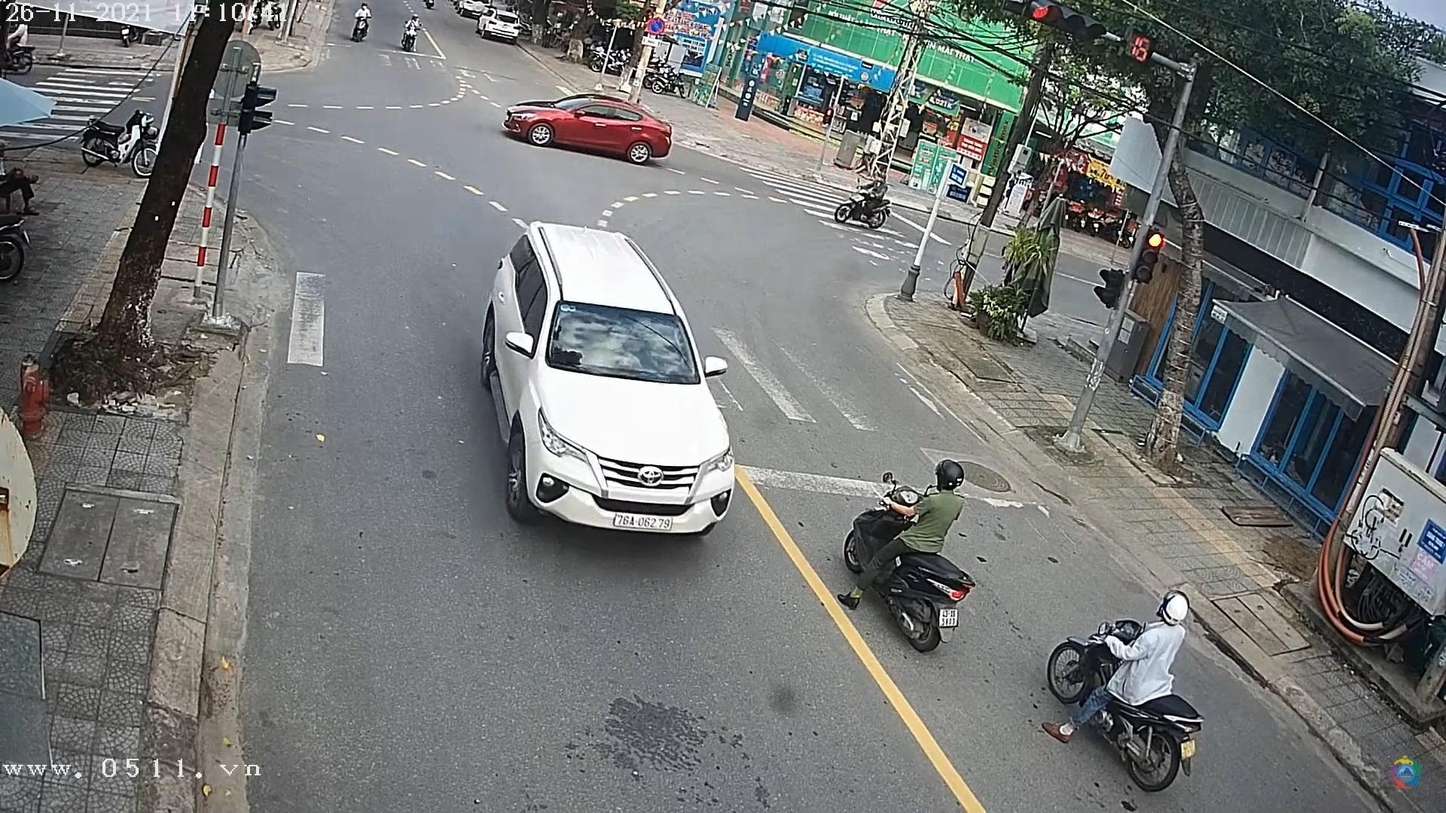car: (489, 222, 742, 533)
